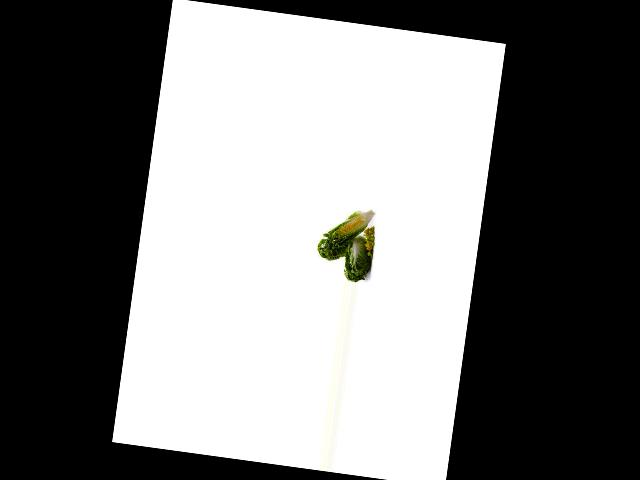lettuce: (340, 228, 377, 282)
